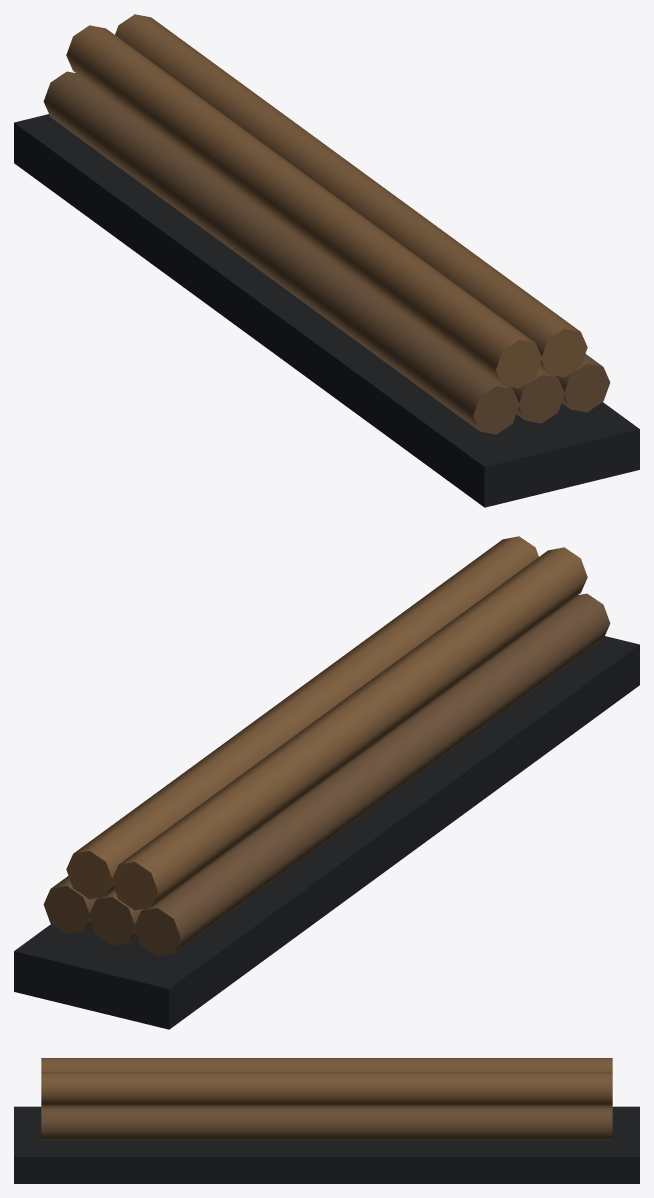
Rendered from train-car-3.glb.
3 renders of one model, top to bottom at view 1: azimuth 30°, elevation 25°; view 2: azimuth 150°, elevation 25°; view 3: azimuth 270°, elevation 25°, orthographic. The views are drawn at different scales.
Parts seen in each view (by area): view 1: 02_#7a5a3a, 00_#1e2022, 01_#6a5038; view 2: 02_#7a5a3a, 00_#1e2022, 01_#6a5038; view 3: 00_#1e2022, 02_#7a5a3a, 01_#6a5038.
Part boxes in pixels (x1,y1,x2,y2): 02_#7a5a3a: (66, 14, 587, 388); 00_#1e2022: (14, 114, 639, 507); 01_#6a5038: (43, 71, 610, 434); 02_#7a5a3a: (66, 536, 587, 910); 00_#1e2022: (14, 636, 639, 1029); 01_#6a5038: (43, 593, 610, 956); 00_#1e2022: (14, 1106, 639, 1183); 02_#7a5a3a: (41, 1058, 612, 1106); 01_#6a5038: (41, 1106, 612, 1140).
Size of the model in its own units: 2.4 by 2.06 by 12.6.
